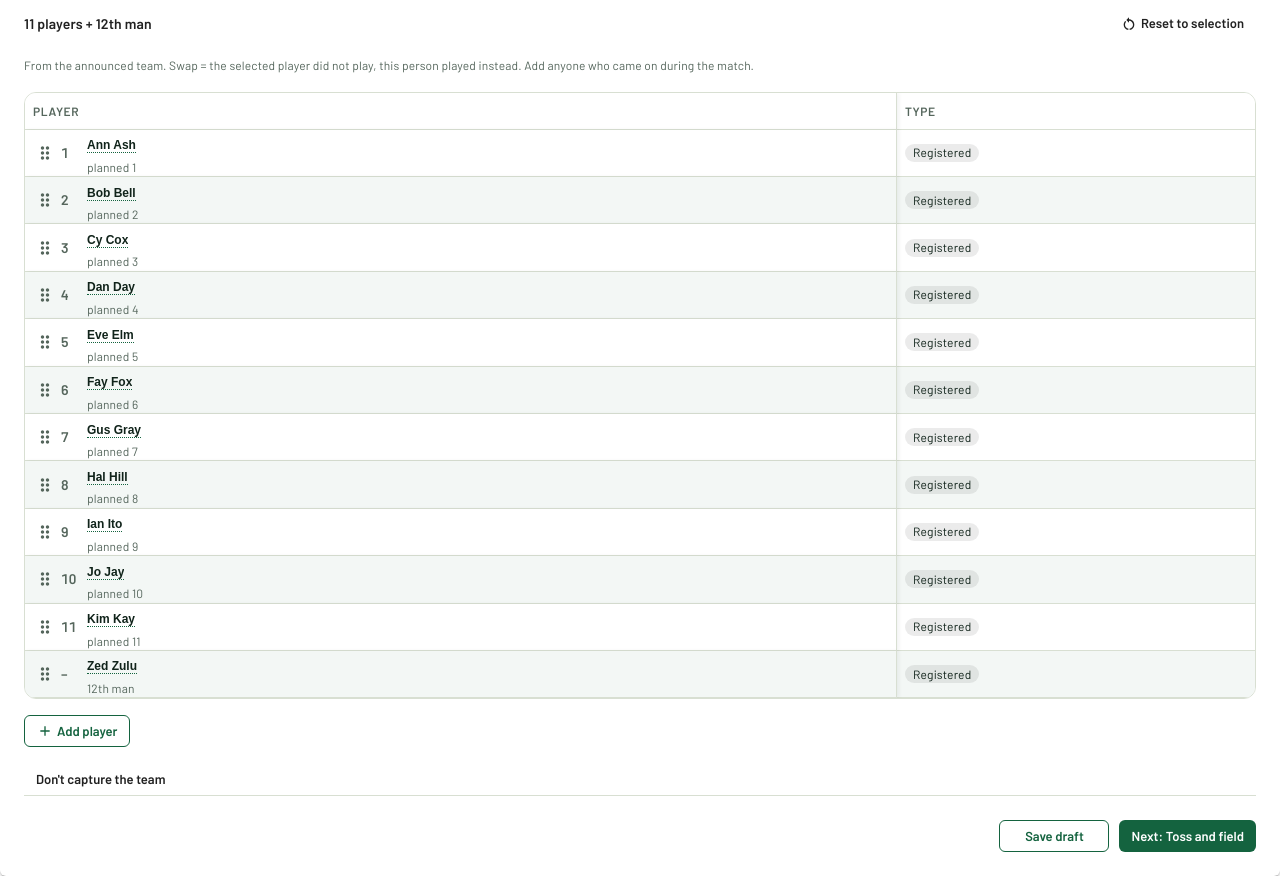
Teams step › saves a players-only draft (no innings, no outcome) when the manager moves on
This screenshot has width=1280, height=876.
(page scrolled)
expect the text "Ann Ash" is shown: met, box [87,138,136,153]
Click the button "Next: Toss and field" at (1188, 836), box [1119,820,1256,852]
(page scrolled)
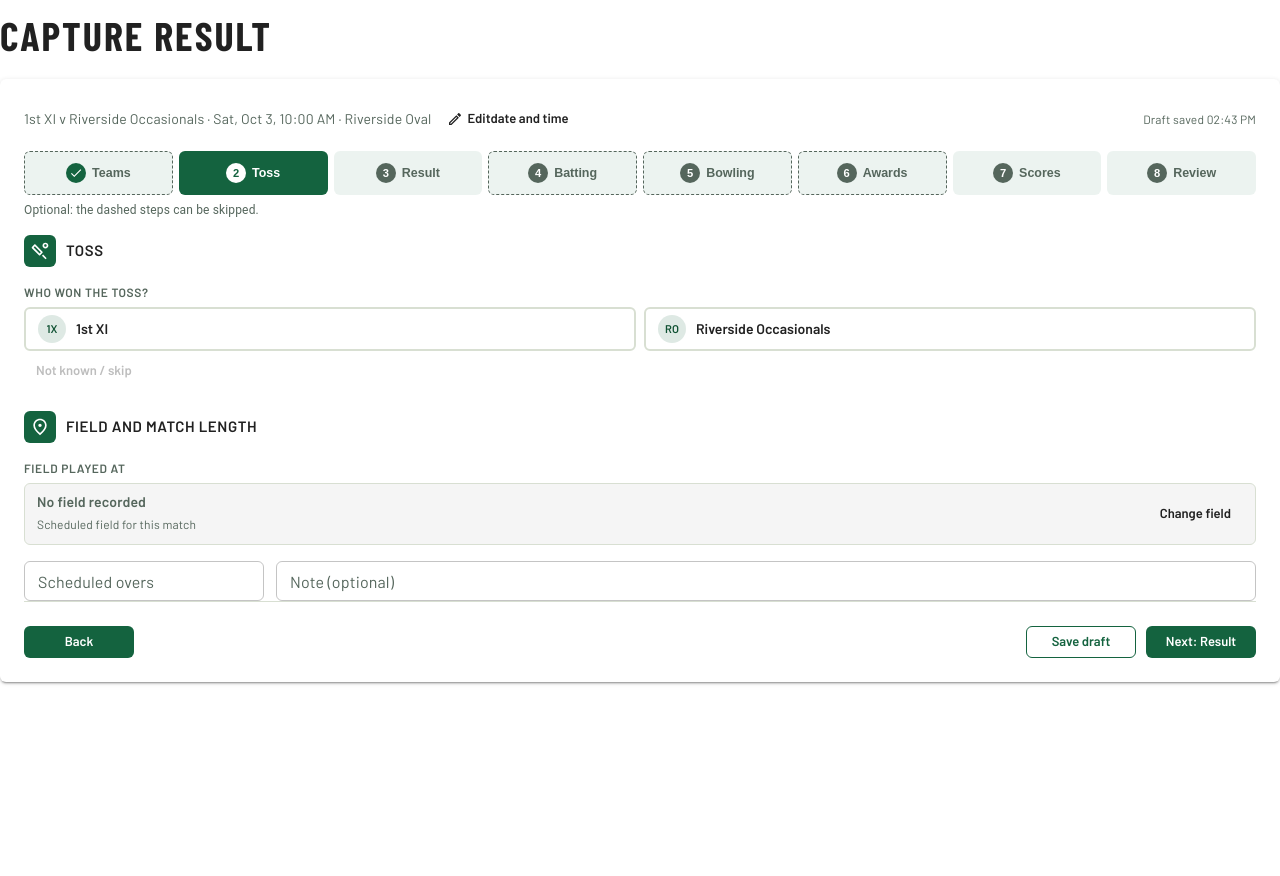
expect the text "Who won the toss?" is shown: met, box [24,285,149,299]
